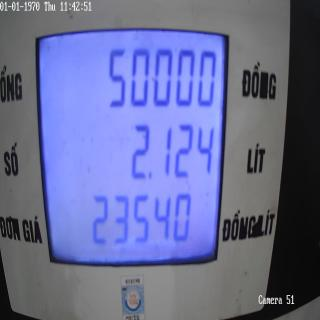screen: (32, 12, 234, 275)
